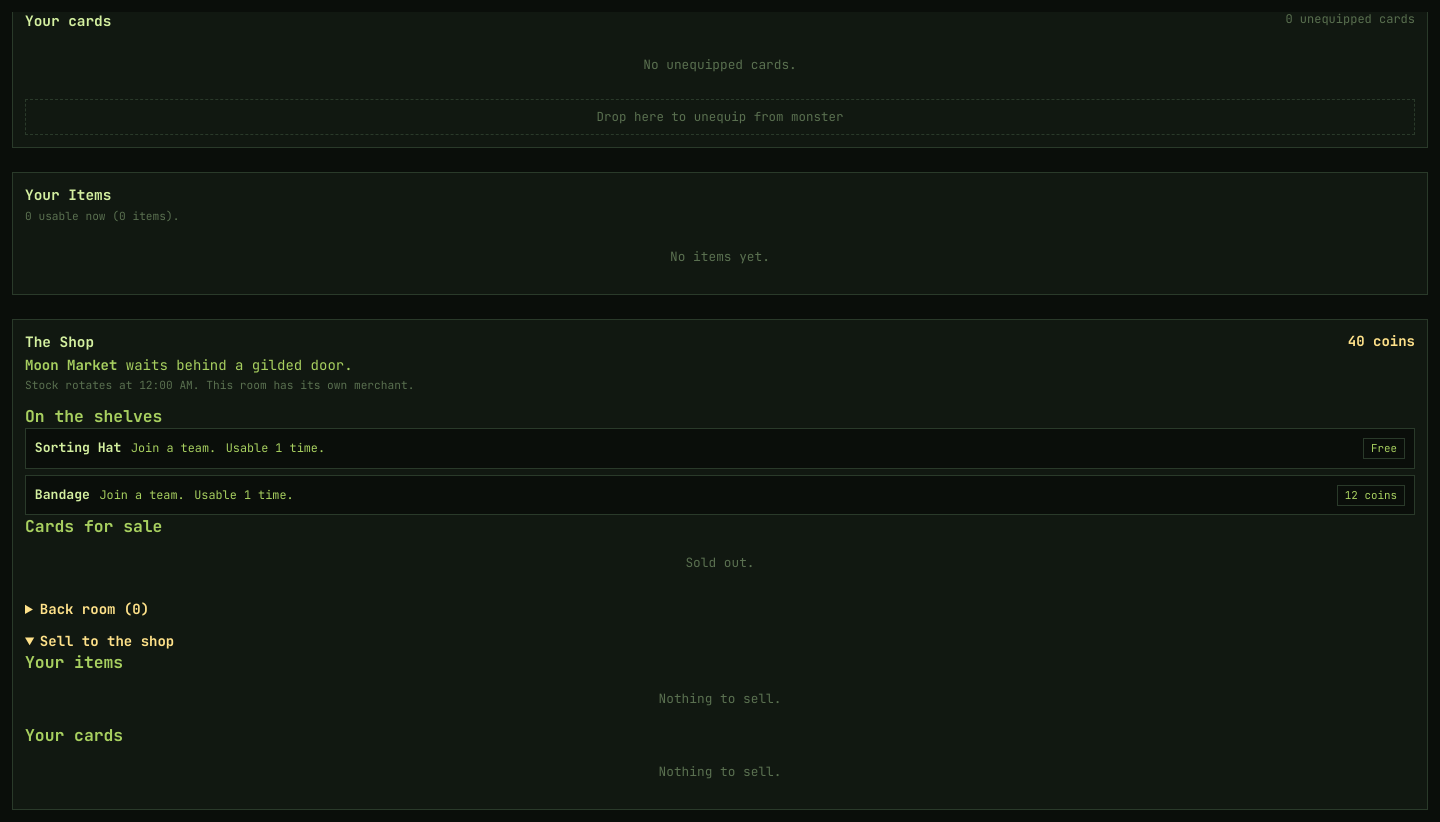
Test: WorkshopPanel: free shop items › keeps the priced text for priced items
(page scrolled)
Click the button "12 coins".
click(1371, 495)  # box x1=1337 y1=485 x2=1405 y2=506
(page scrolled)
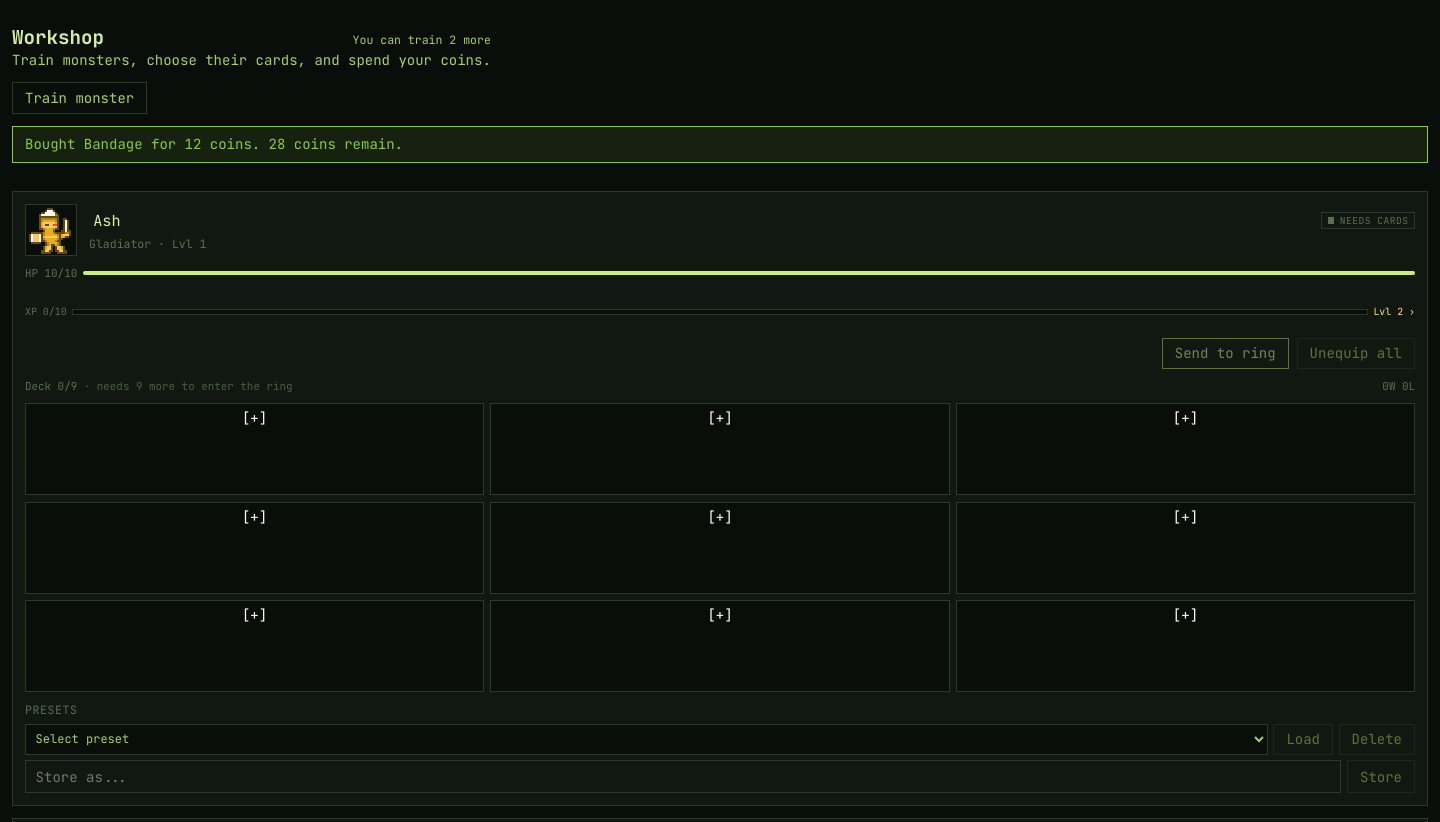
Check: the message reads "Bought Bandage for 12 coins. 28 coins remain.", box x1=25 y1=135 x2=403 y2=153
